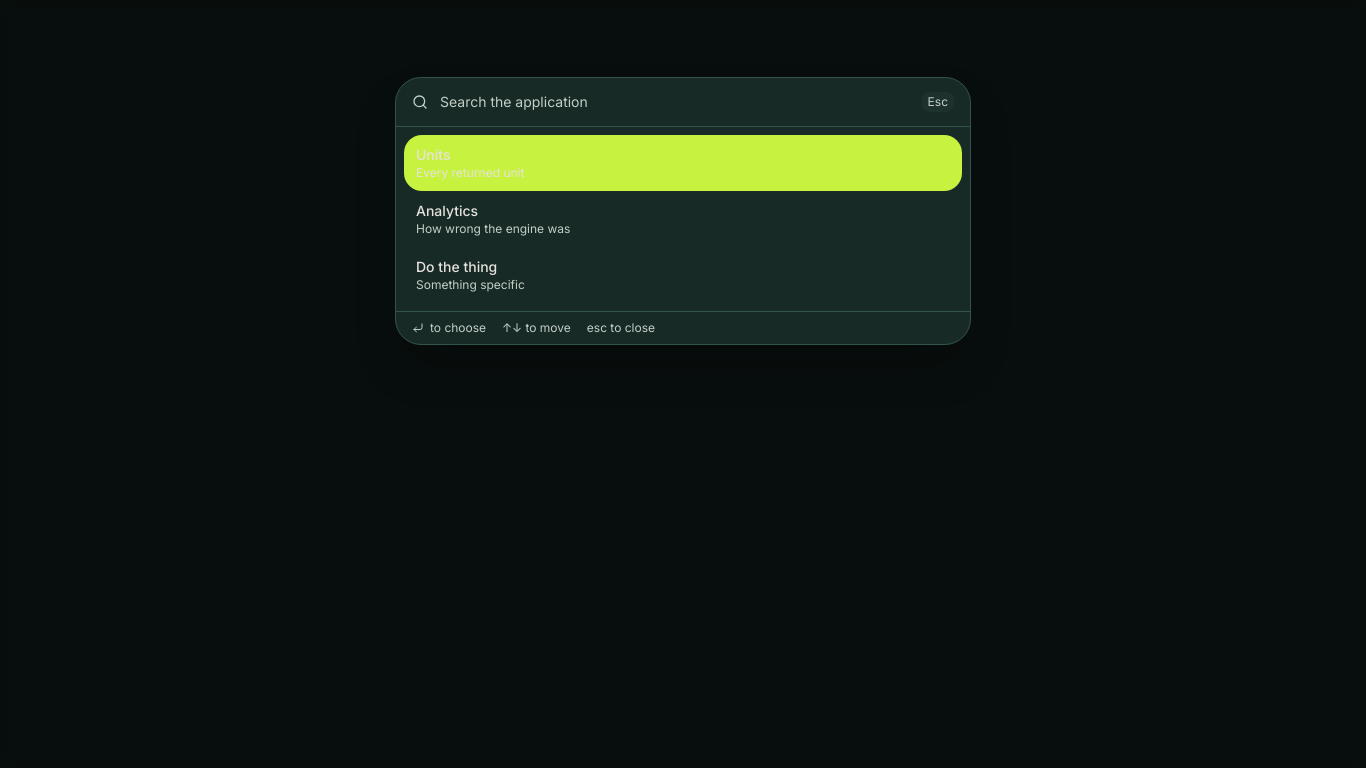
CommandPalette › narrows the list as the reader types
In the field named "type to search": (675, 102) [440,78,910,126], type "analytic"
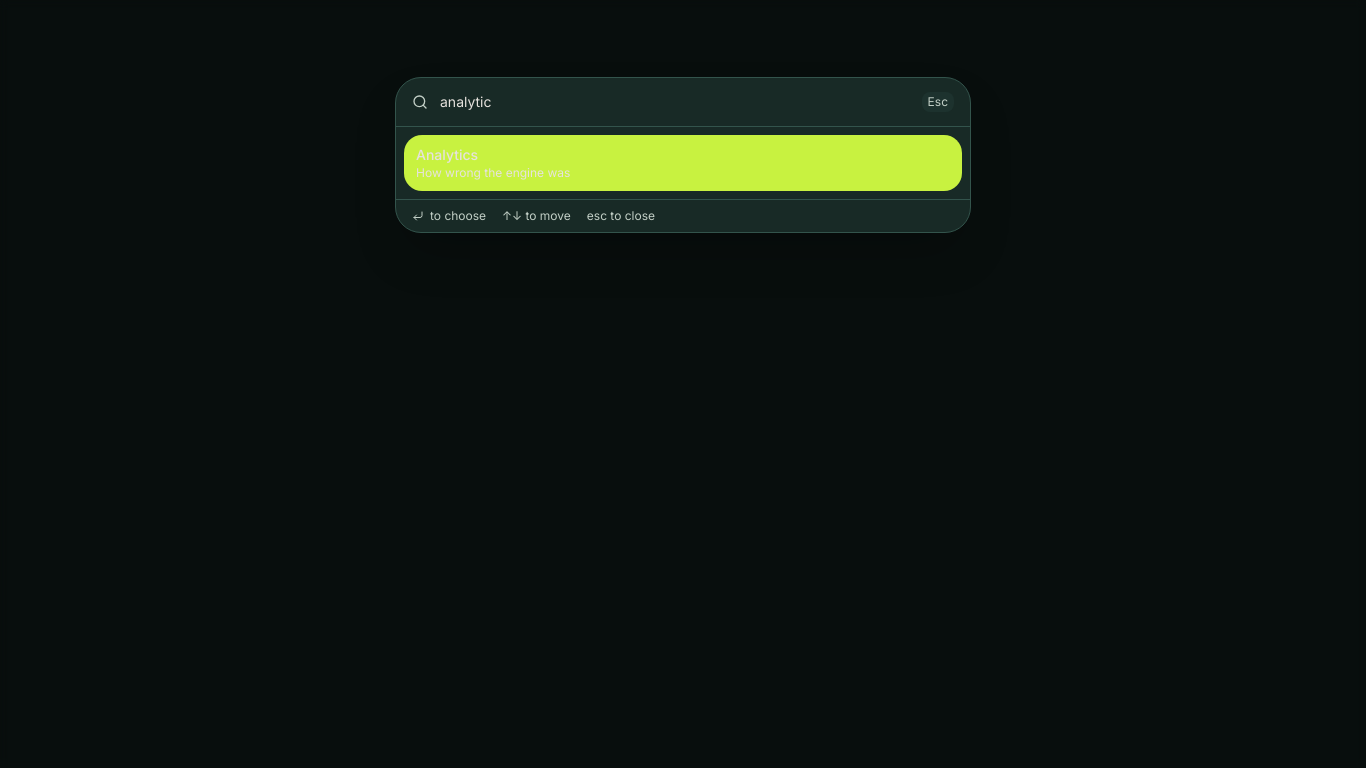
Expected: the option "Analytics How wrong the engine was" is shown, [404,135,962,191]
Expected: the option "Do the thing" is gone
